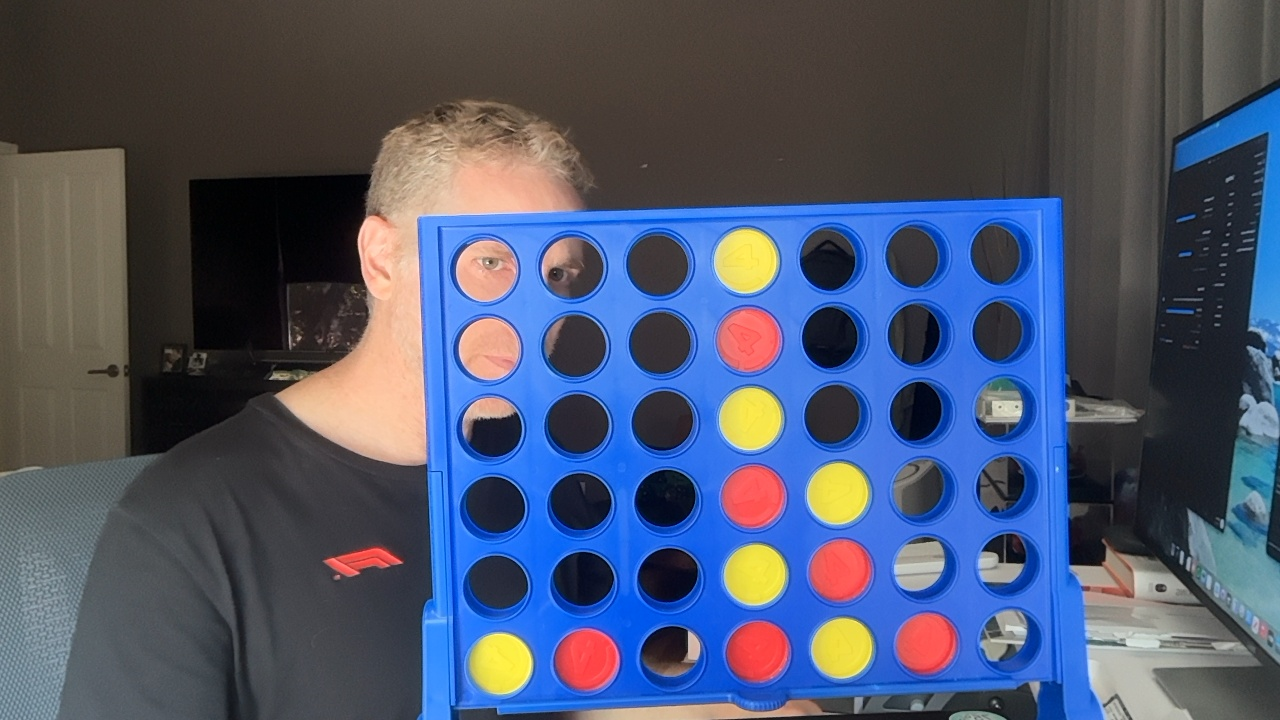red piece: (716, 308, 780, 371), (721, 465, 785, 528), (554, 629, 619, 691), (809, 539, 871, 602), (726, 621, 789, 682), (895, 613, 957, 674)
yellow piece: (713, 228, 778, 294), (806, 461, 869, 526), (467, 632, 532, 695), (719, 386, 782, 451), (723, 544, 787, 606), (810, 617, 873, 679)
